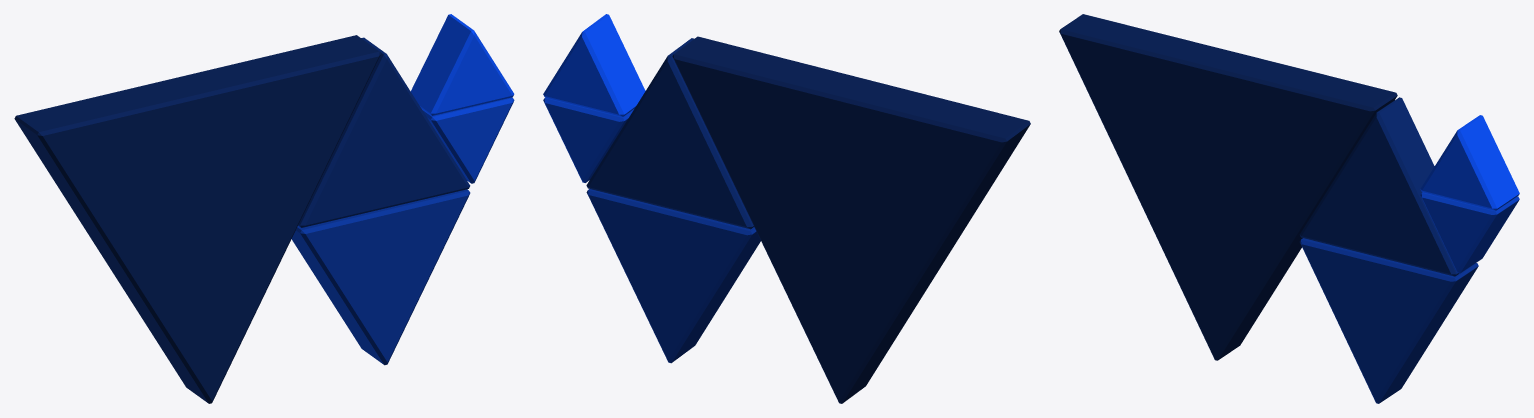
The model's file is webgpu.obj.
3 renders of one model, left to right at view 1: azimuth 30°, elevation 25°; view 2: azimuth 150°, elevation 25°; view 3: azimuth 330°, elevation 25°, orthographic. The views are drawn at different scales.
Visible parts, largest first — view 1: Logo_Plane.004; view 2: Logo_Plane.004; view 3: Logo_Plane.004.
Part boxes in pixels (x1,y1,x2,y2): Logo_Plane.004: (14, 14, 514, 403); Logo_Plane.004: (543, 14, 1030, 403); Logo_Plane.004: (1059, 14, 1519, 403).
Bounding box in the file's own units: 3.97 × 2.52 × 0.4568.
